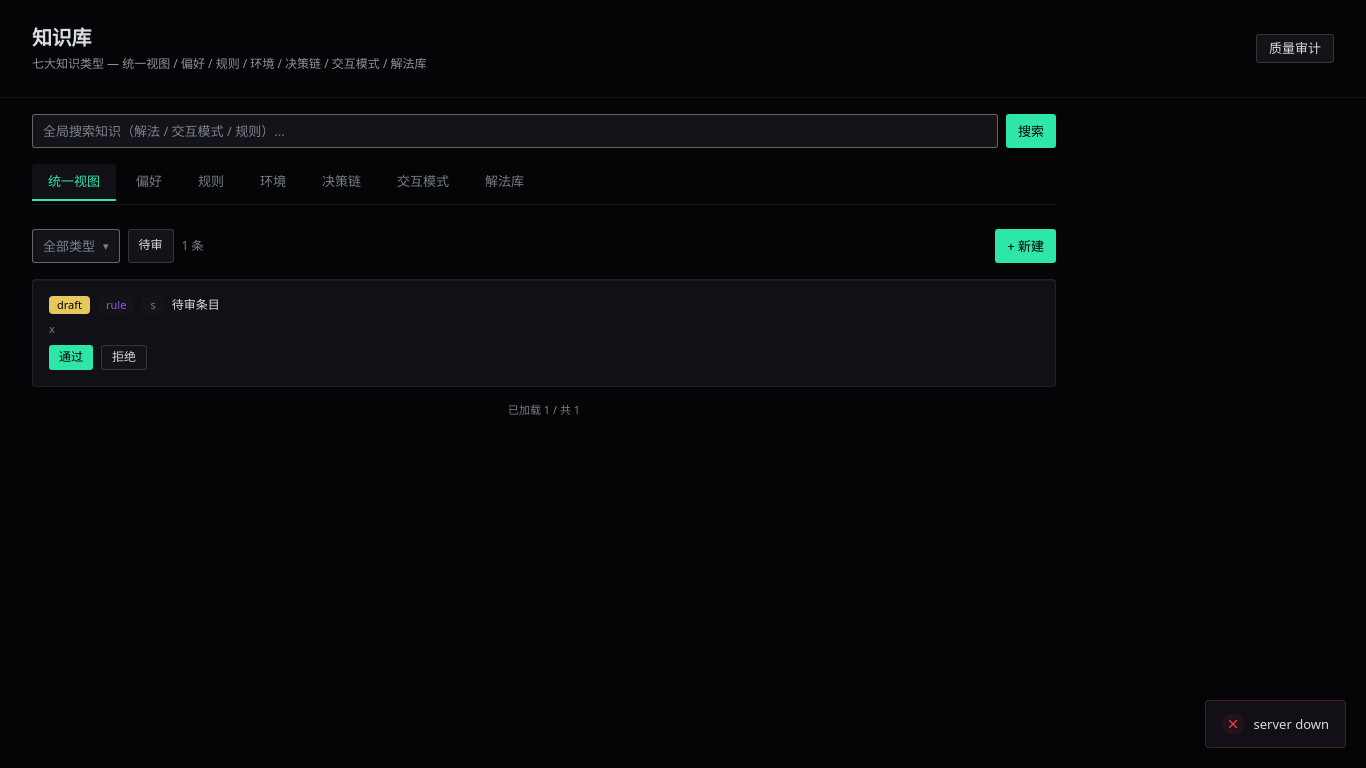
Test: E5: 待审筛选 + draft 条目审批（promote/demote） › 审批失败 toast 报错（服务端 error.message 优先）且条目保留可重试
Click the button "通过". click: (71, 357)
box: [49,345,93,370]
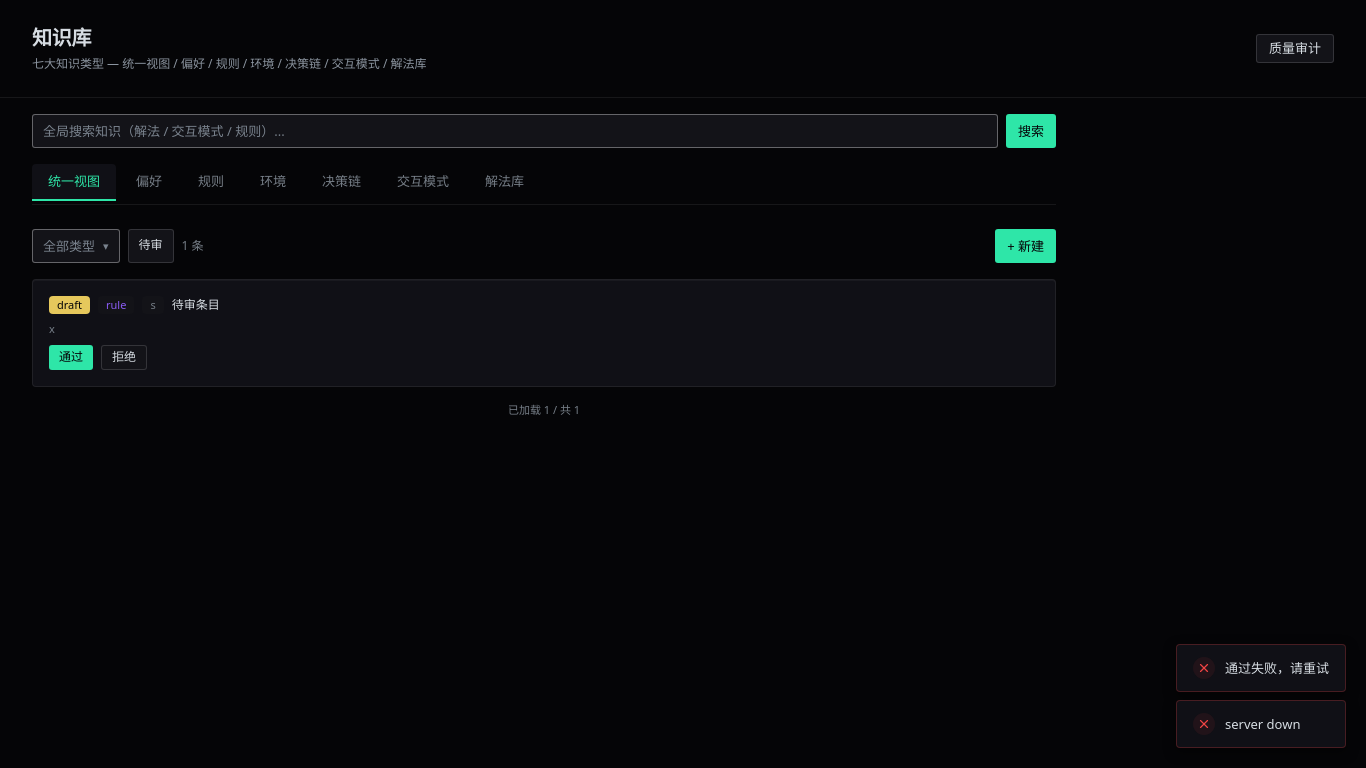
Check: the text "待审条目" is shown, box [172,296,220,314]
Check: the text "通过失败，请重试" is shown, box [1225,659,1329,677]
